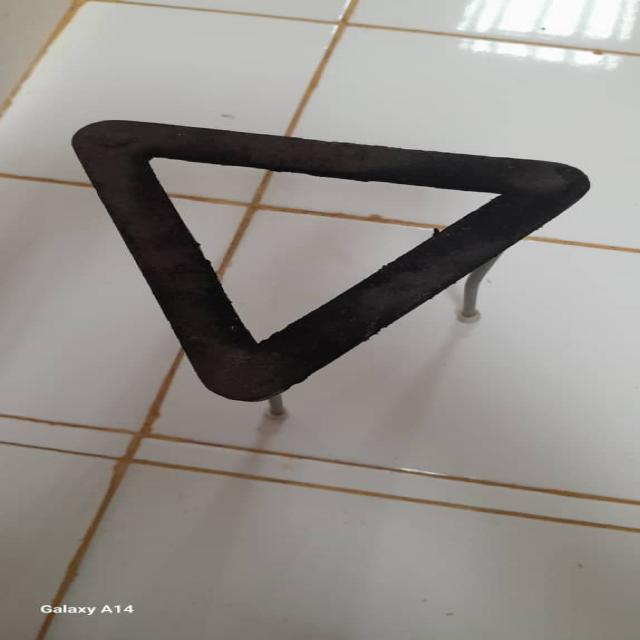Stand: (51, 119, 594, 424)
